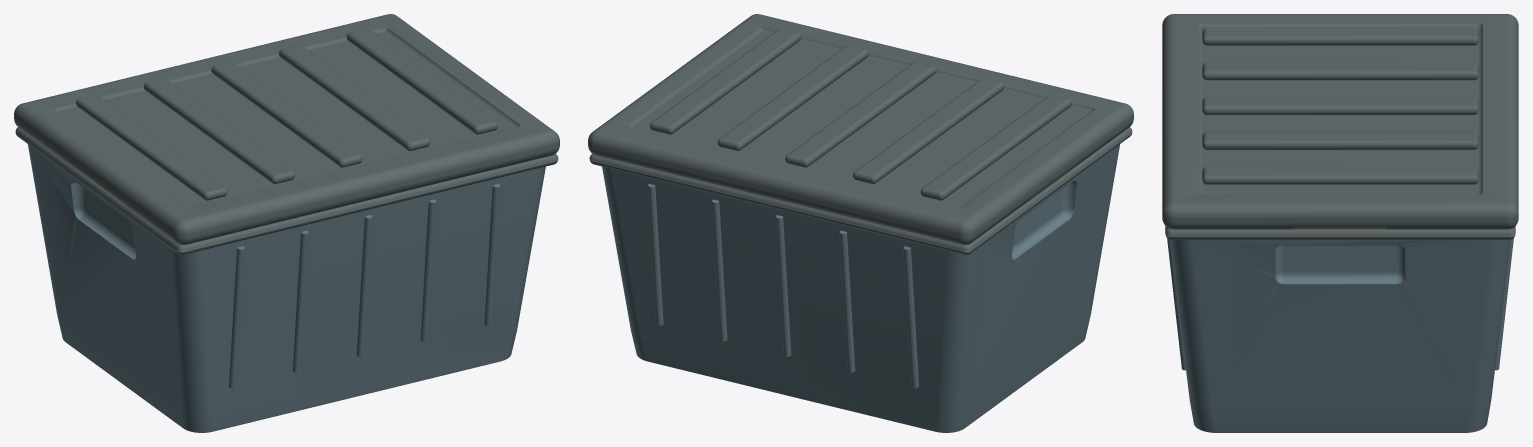
The model's file is bin.fbx.
The picture shows the model from 3 angles, left to right: view 1: azimuth 30°, elevation 25°; view 2: azimuth 150°, elevation 25°; view 3: azimuth 270°, elevation 25°; orthographic projection. The views are drawn at different scales.
Parts seen in each view (by area): view 1: bin_LOD0; view 2: bin_LOD0; view 3: bin_LOD0.
Boxes of the visible parts, x1=… form: bin_LOD0: x1=14, y1=14, x2=559, y2=432; bin_LOD0: x1=588, y1=14, x2=1133, y2=432; bin_LOD0: x1=1162, y1=14, x2=1518, y2=432.
Size of what is drawn, in the model's own units: 0.512 by 0.2995 by 0.39.
